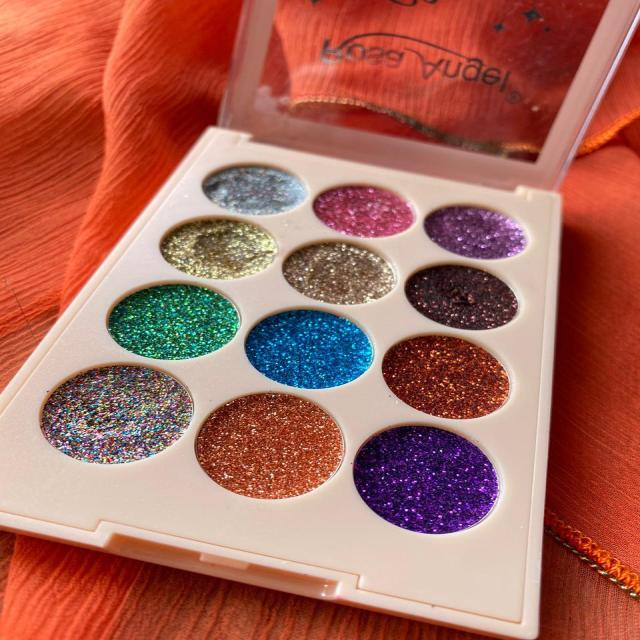eye shade: (45, 157, 530, 555)
